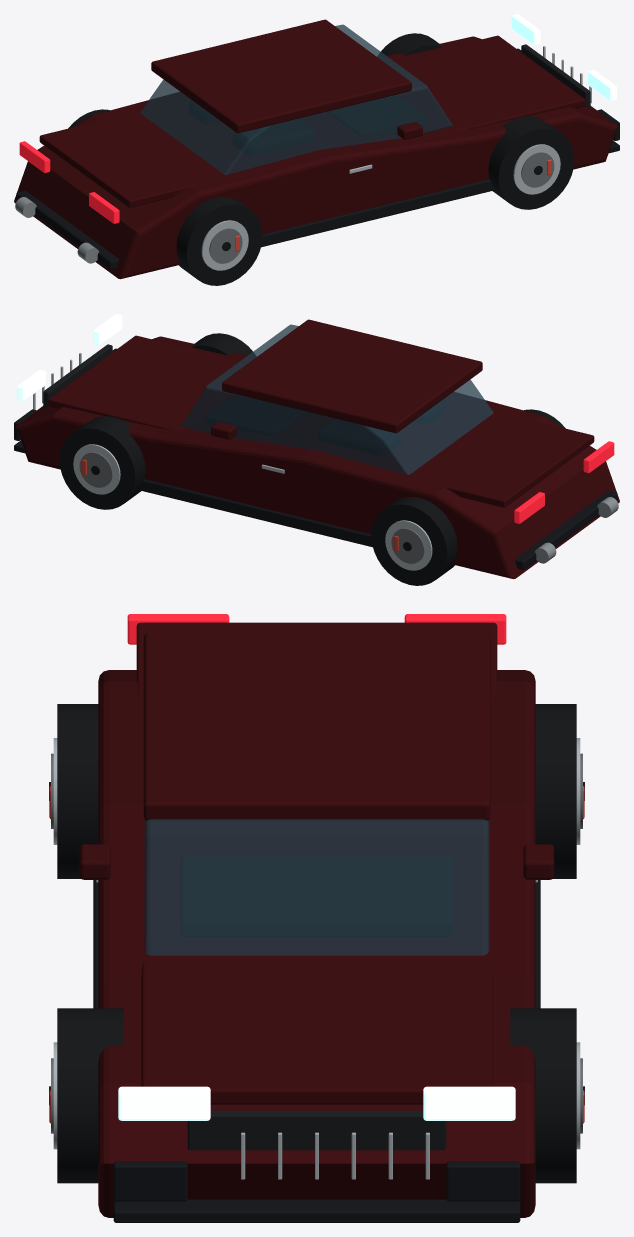
File: ford_shelby_gt350.glb
3 renders of one model, top to bottom at view 1: azimuth 30°, elevation 25°; view 2: azimuth 150°, elevation 25°; view 3: azimuth 270°, elevation 25°, orthographic. The views are drawn at different scales.
Parts seen in each view (by area): view 1: sculpted_body, roof, glasshouse, hood_center, rear_deck, front_right_wheel_tire, rear_right_wheel_tire, side_skirt_1, dashboard, seat_1, rear_diffuser, front_right_wheel_rim (+9 smaller); view 2: sculpted_body, roof, glasshouse, hood_center, rear_deck, front_left_wheel_tire, rear_left_wheel_tire, side_skirt_-1, dashboard, seat_-1, rear_diffuser, front_left_wheel_rim (+9 smaller); view 3: sculpted_body, roof, hood_center, glasshouse, dashboard, front_grille, front_splitter, front_left_wheel_tire, front_right_wheel_tire, rear_left_wheel_tire, rear_right_wheel_tire, rear_deck (+8 smaller).
Boxes of the visible parts, left/top/right/bottom form: sculpted_body: left=14, top=36, right=617, bottom=279; roof: left=151, top=19, right=411, bottom=133; glasshouse: left=140, top=24, right=452, bottom=174; hood_center: left=386, top=35, right=585, bottom=130; rear_deck: left=39, top=116, right=209, bottom=207; front_right_wheel_tire: left=488, top=116, right=574, bottom=209; rear_right_wheel_tire: left=176, top=197, right=262, bottom=285; side_skirt_1: left=261, top=179, right=494, bottom=247; dashboard: left=327, top=95, right=426, bottom=135; seat_1: left=233, top=119, right=315, bottom=155; rear_diffuser: left=16, top=190, right=118, bottom=269; front_right_wheel_rim: left=513, top=144, right=560, bottom=194; sculpted_body: left=16, top=336, right=619, bottom=579; roof: left=222, top=319, right=482, bottom=433; glasshouse: left=181, top=324, right=493, bottom=474; hood_center: left=48, top=335, right=247, bottom=430; rear_deck: left=424, top=416, right=594, bottom=507; front_left_wheel_tire: left=59, top=416, right=145, bottom=509; rear_left_wheel_tire: left=371, top=497, right=457, bottom=585; side_skirt_-1: left=139, top=479, right=372, bottom=547; dashboard: left=207, top=395, right=306, bottom=435; seat_-1: left=318, top=419, right=400, bottom=455; rear_diffuser: left=515, top=490, right=617, bottom=569; front_left_wheel_rim: left=73, top=444, right=120, bottom=494; sculpted_body: left=98, top=670, right=535, bottom=1217; roof: left=143, top=633, right=490, bottom=820; hood_center: left=141, top=959, right=492, bottom=1104; glasshouse: left=144, top=819, right=489, bottom=955; dashboard: left=181, top=857, right=452, bottom=936; front_grille: left=187, top=1110, right=446, bottom=1150; front_splitter: left=113, top=1199, right=520, bottom=1222; front_left_wheel_tire: left=510, top=1008, right=576, bottom=1183; front_right_wheel_tire: left=57, top=1008, right=123, bottom=1183; rear_left_wheel_tire: left=535, top=704, right=576, bottom=878; rear_right_wheel_tire: left=57, top=704, right=98, bottom=878; rear_deck: left=136, top=622, right=497, bottom=701.
Size of the model in its own units: 5.09 by 1.27 by 2.26.
